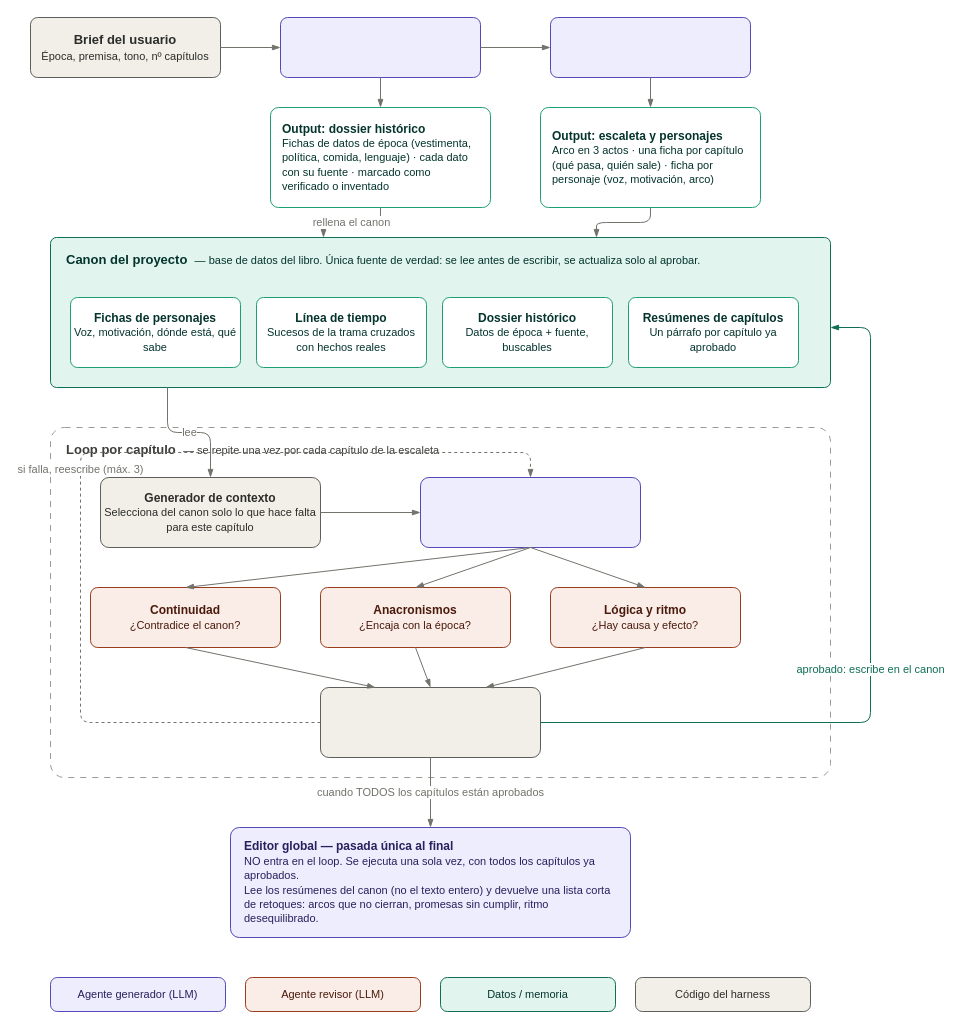
Image size: 961x1029. Some labels were removed from this diagram. The centre of each missing label's shape, as x and y in pixels:
"Agente arquitecto" belongs at point (650, 47).
"Agente escritor Output: el capítulo redactado" belongs at point (530, 512).
"Agente investigador" belongs at point (380, 47).
"Gate de calidad Umbral sobre las 3 notas · máx. 3 reintentos" belongs at point (430, 722).
